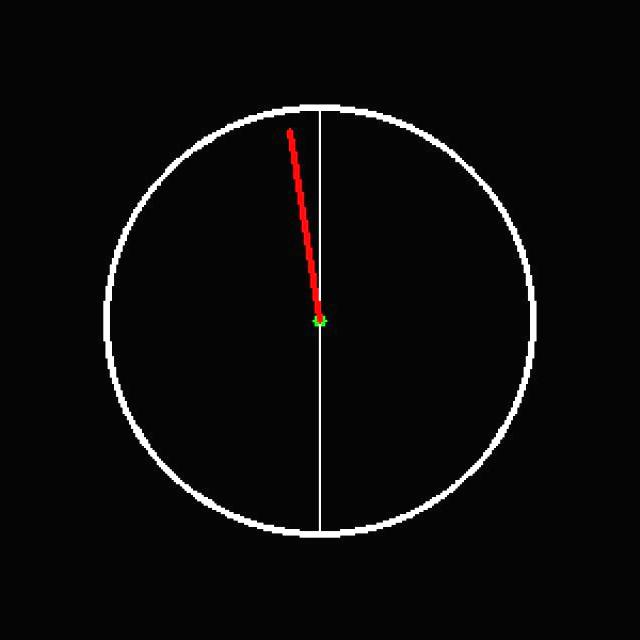Needle_Tip: (268, 115, 314, 156)
Needle_base: (281, 285, 343, 358)
